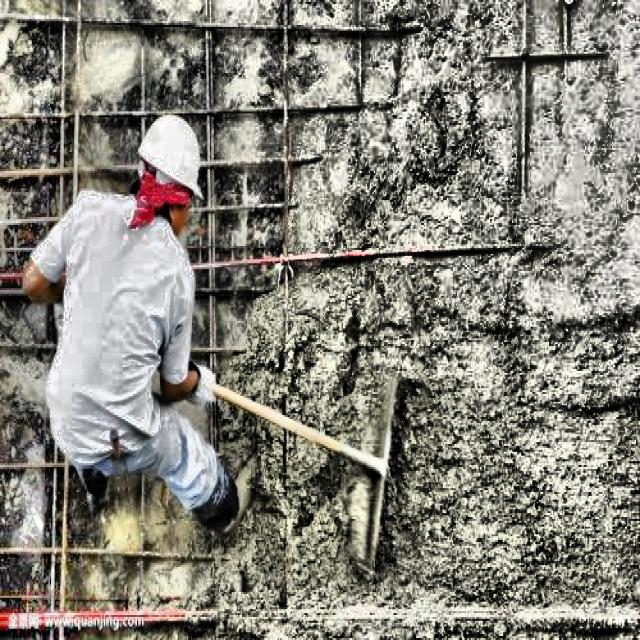helmet: (128, 108, 210, 244)
